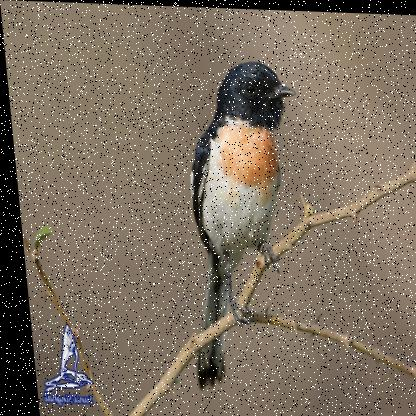Burung: (167, 56, 318, 390)
